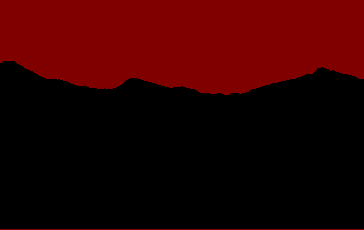Sky: (1, 1, 363, 229)
